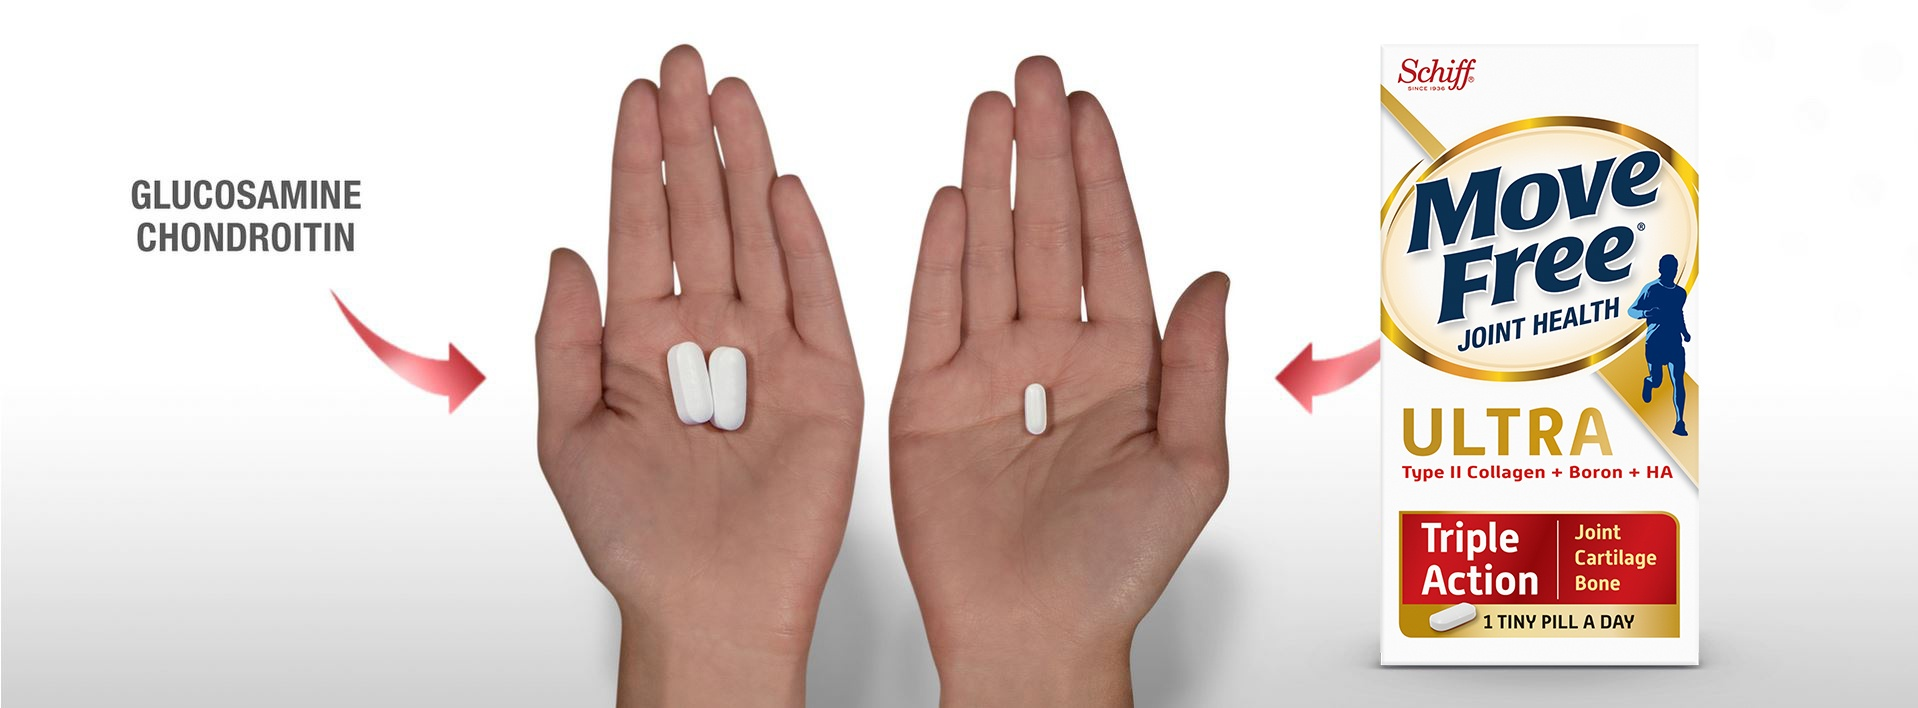pills: (664, 339, 716, 430), (709, 351, 749, 445), (1018, 374, 1064, 448)
